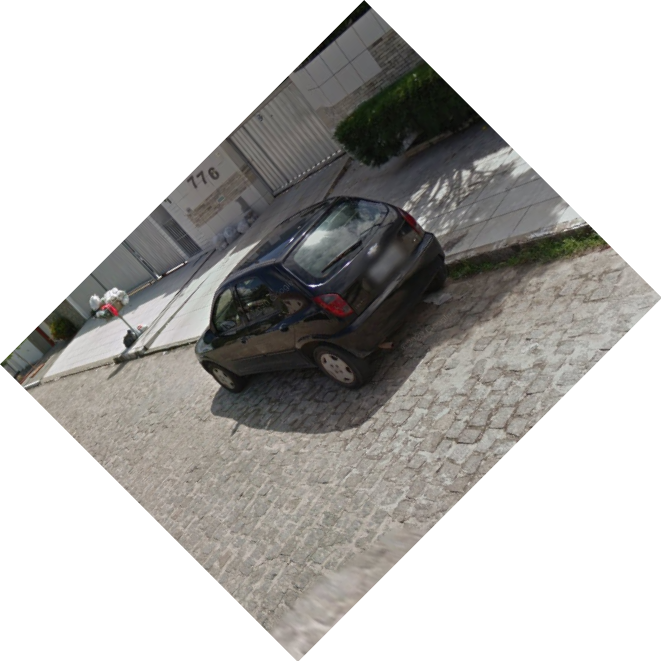car: (188, 193, 448, 395)
